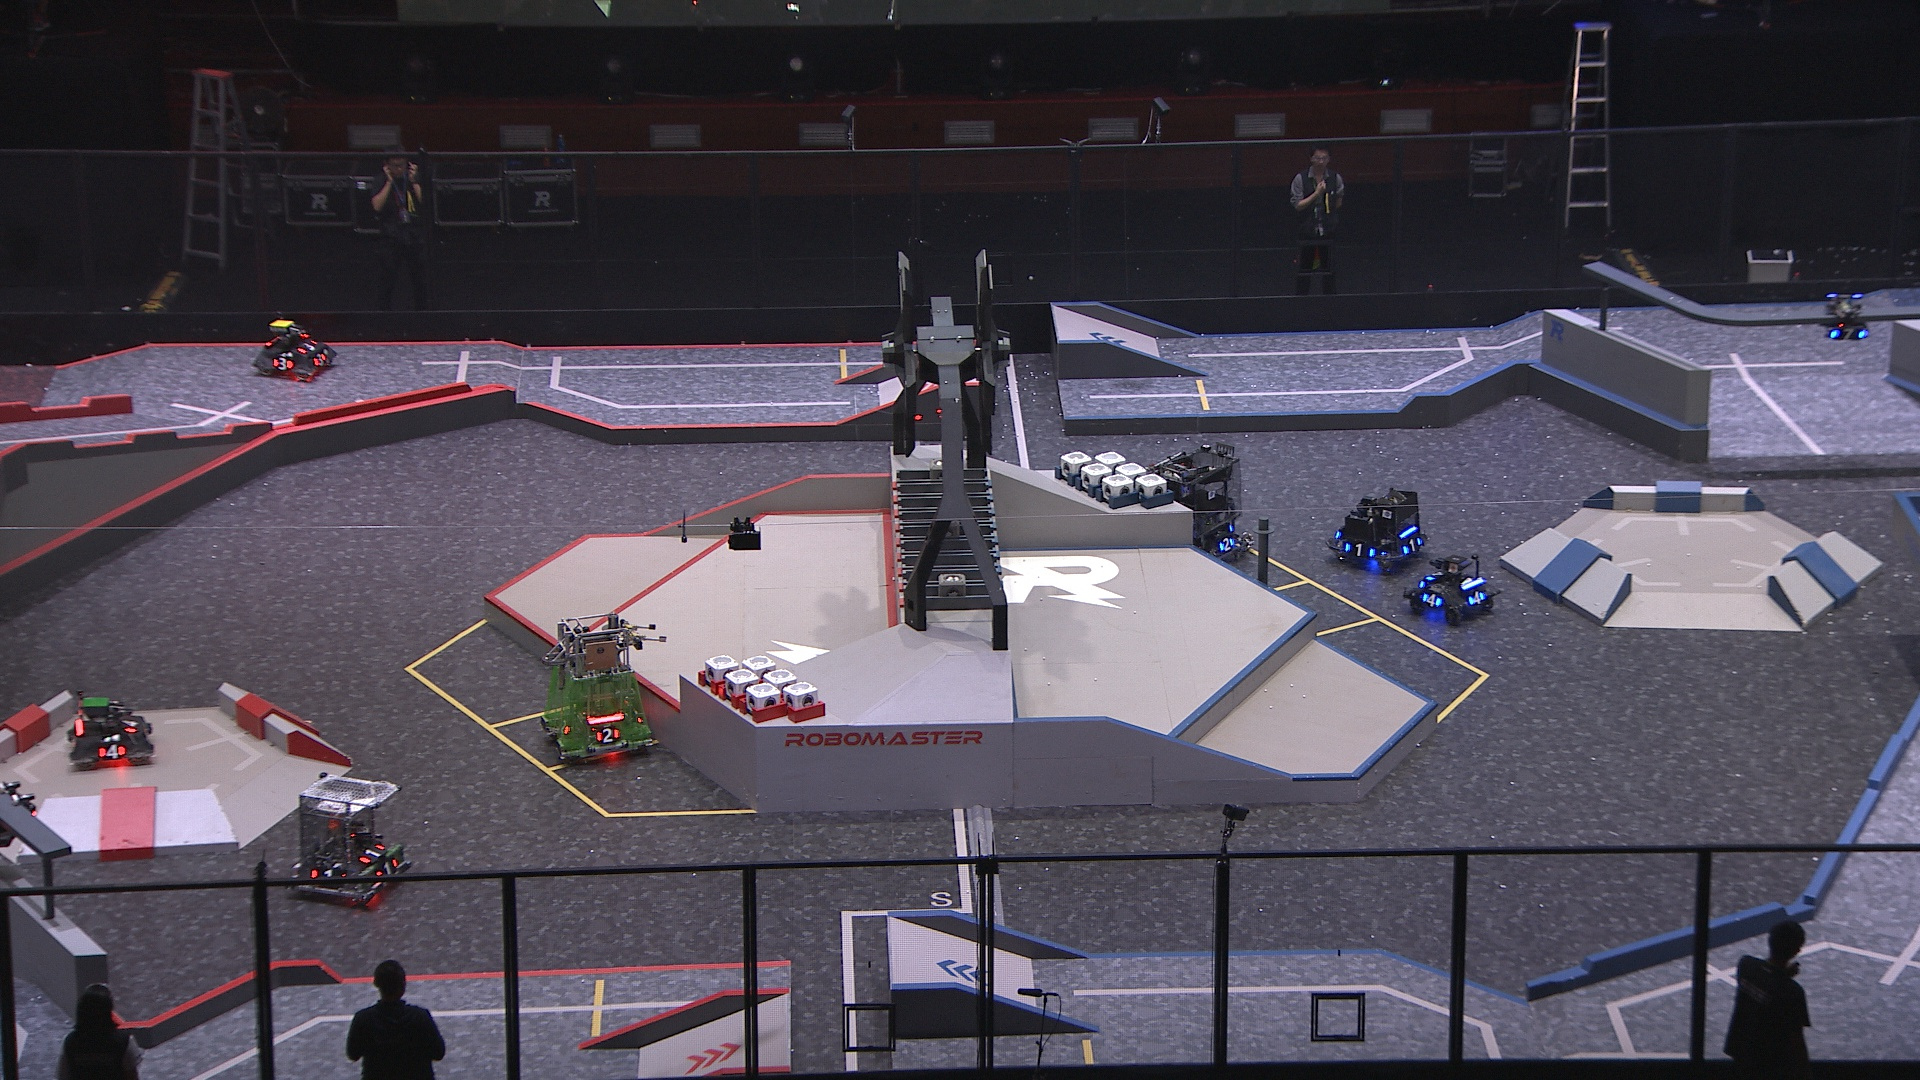armor: (1342, 541, 1375, 560), (309, 868, 351, 882), (98, 744, 131, 761), (373, 858, 400, 880), (593, 727, 622, 744), (357, 843, 382, 862), (1826, 328, 1869, 339), (269, 357, 297, 372), (1215, 535, 1237, 553), (291, 339, 319, 352), (1466, 591, 1489, 607), (1420, 593, 1443, 609), (556, 717, 574, 737), (123, 717, 141, 733), (1403, 537, 1420, 553), (310, 353, 328, 367), (1425, 570, 1443, 583)
car: (543, 609, 659, 770), (284, 771, 411, 907), (1141, 442, 1258, 564), (1325, 488, 1429, 571), (65, 687, 154, 770), (1404, 556, 1501, 626), (253, 318, 340, 382)
watcher: (1820, 294, 1874, 342)
